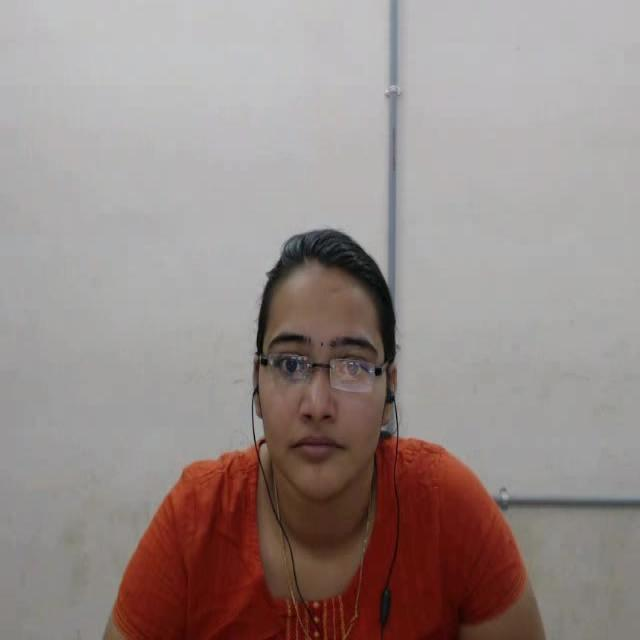Engaged: (203, 179, 454, 640)
